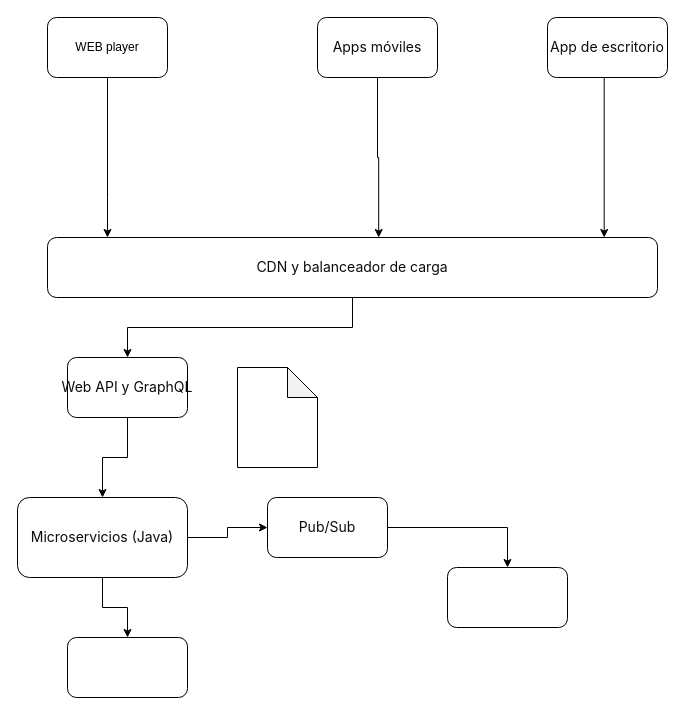
Image size: 685x715. Some labels were removed from this diagram. Here are the shapes that lost their labels. From the top down, the centre of each, then its label:
At point (277, 417): "google cloud y kubernetes".
At point (507, 597): "Pipelines de datos".
At point (127, 667): "Bases de datos".
